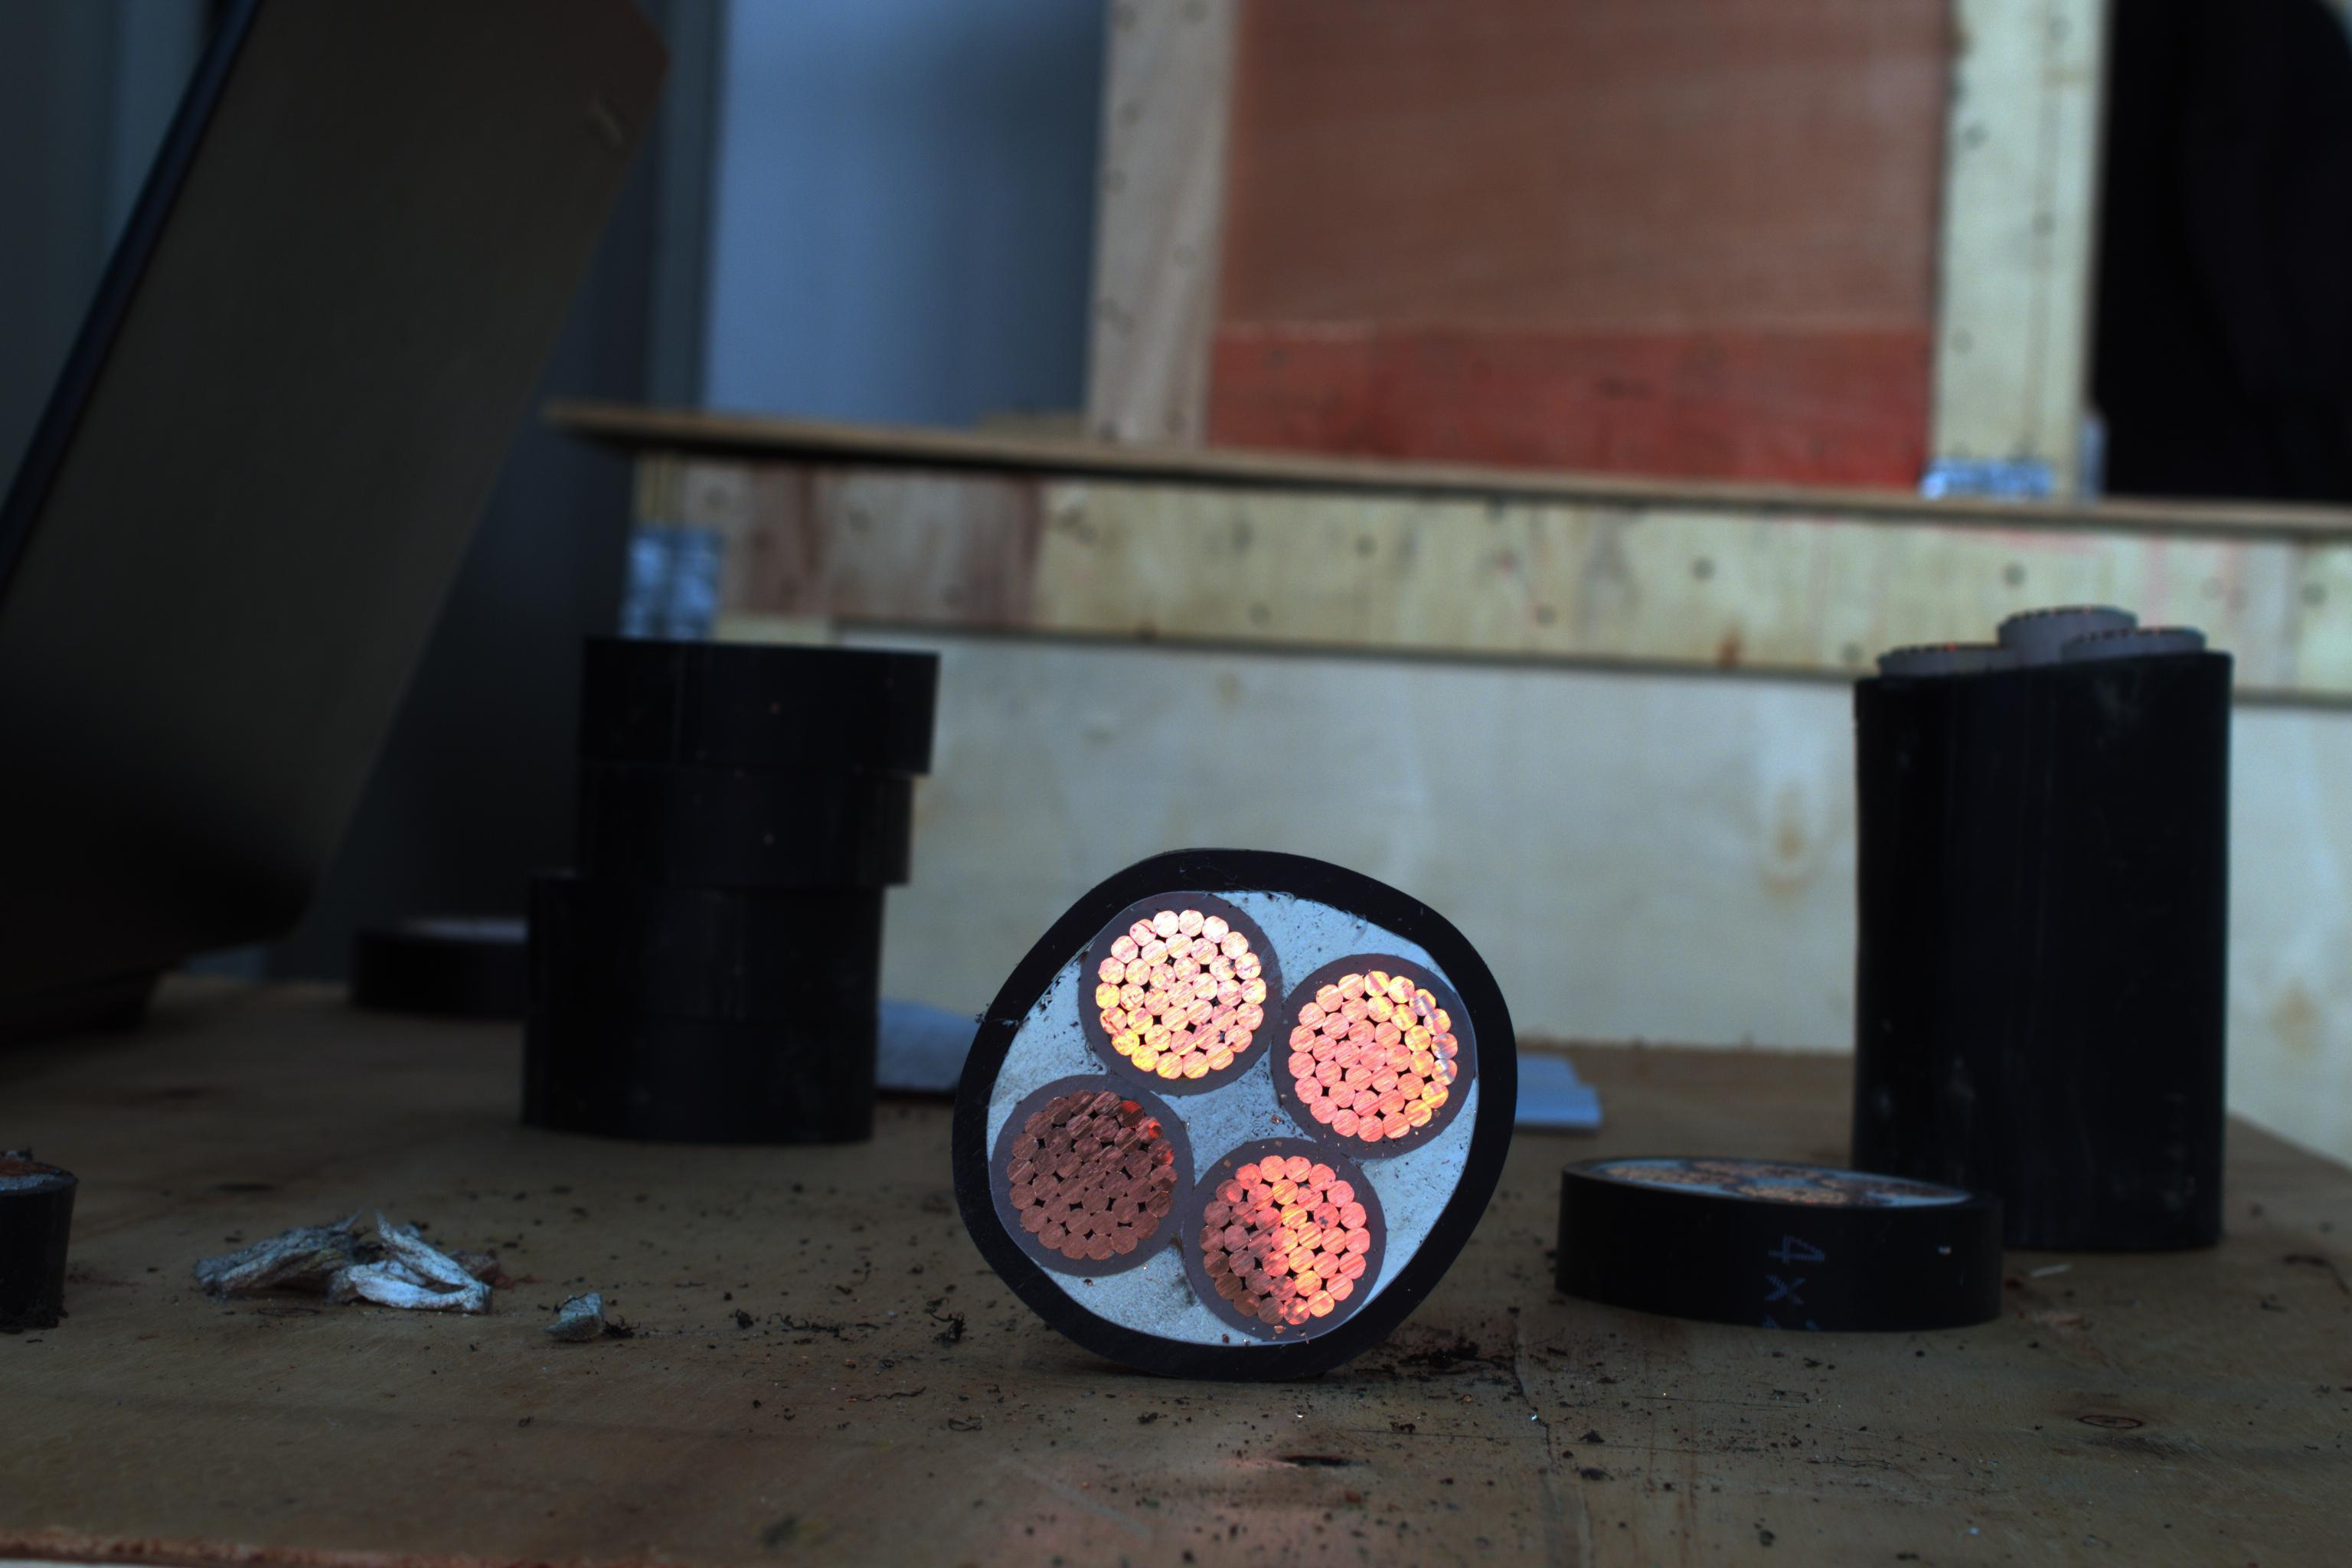YJV_0.6_1kV_4x240: (954, 836, 1496, 1384)
